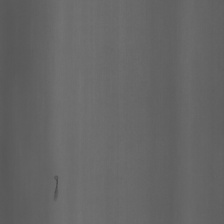water_spot: (50, 162, 62, 207)
